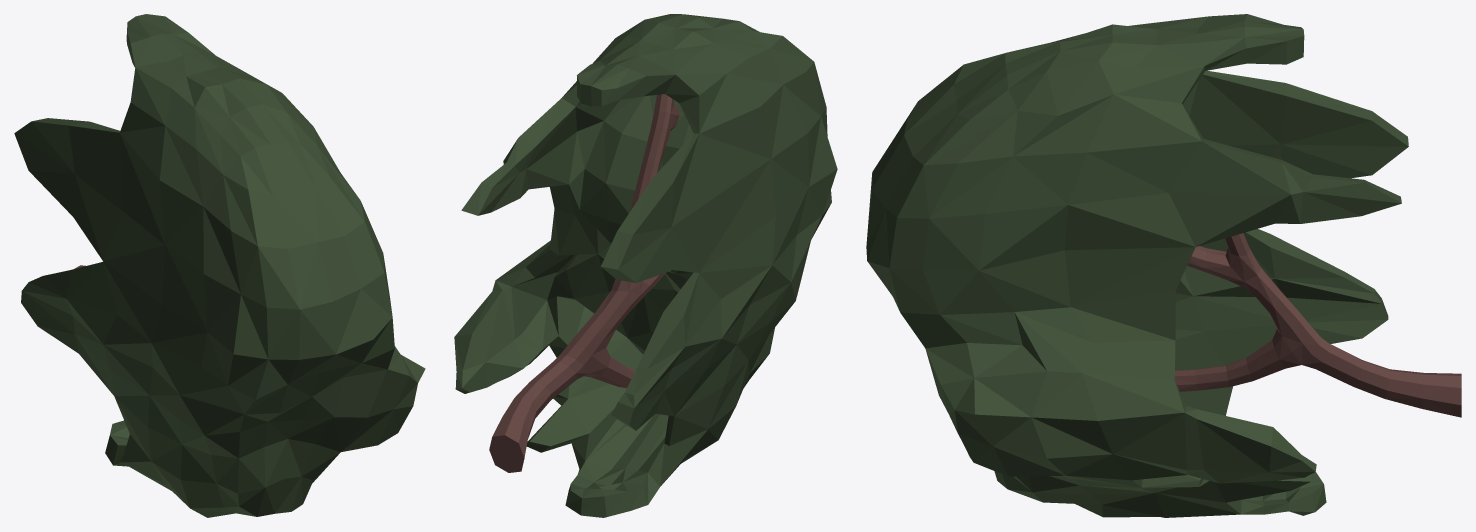
The model's file is tree-willow-1-32-ft.obj.
3 views of the same model, side by side, from view 1: azimuth 30°, elevation 25°; view 2: azimuth 150°, elevation 25°; view 3: azimuth 270°, elevation 25° (orthographic). The views are drawn at different scales.
Visible parts, largest first — view 1: tree-willow-1-32-ft; view 2: tree-willow-1-32-ft; view 3: tree-willow-1-32-ft.
Boxes of the visible parts, bbox=[...] form: tree-willow-1-32-ft: bbox=[14, 14, 425, 517]; tree-willow-1-32-ft: bbox=[454, 14, 837, 517]; tree-willow-1-32-ft: bbox=[866, 14, 1461, 517].
Size of the model in its own units: 196 by 345 by 384.
